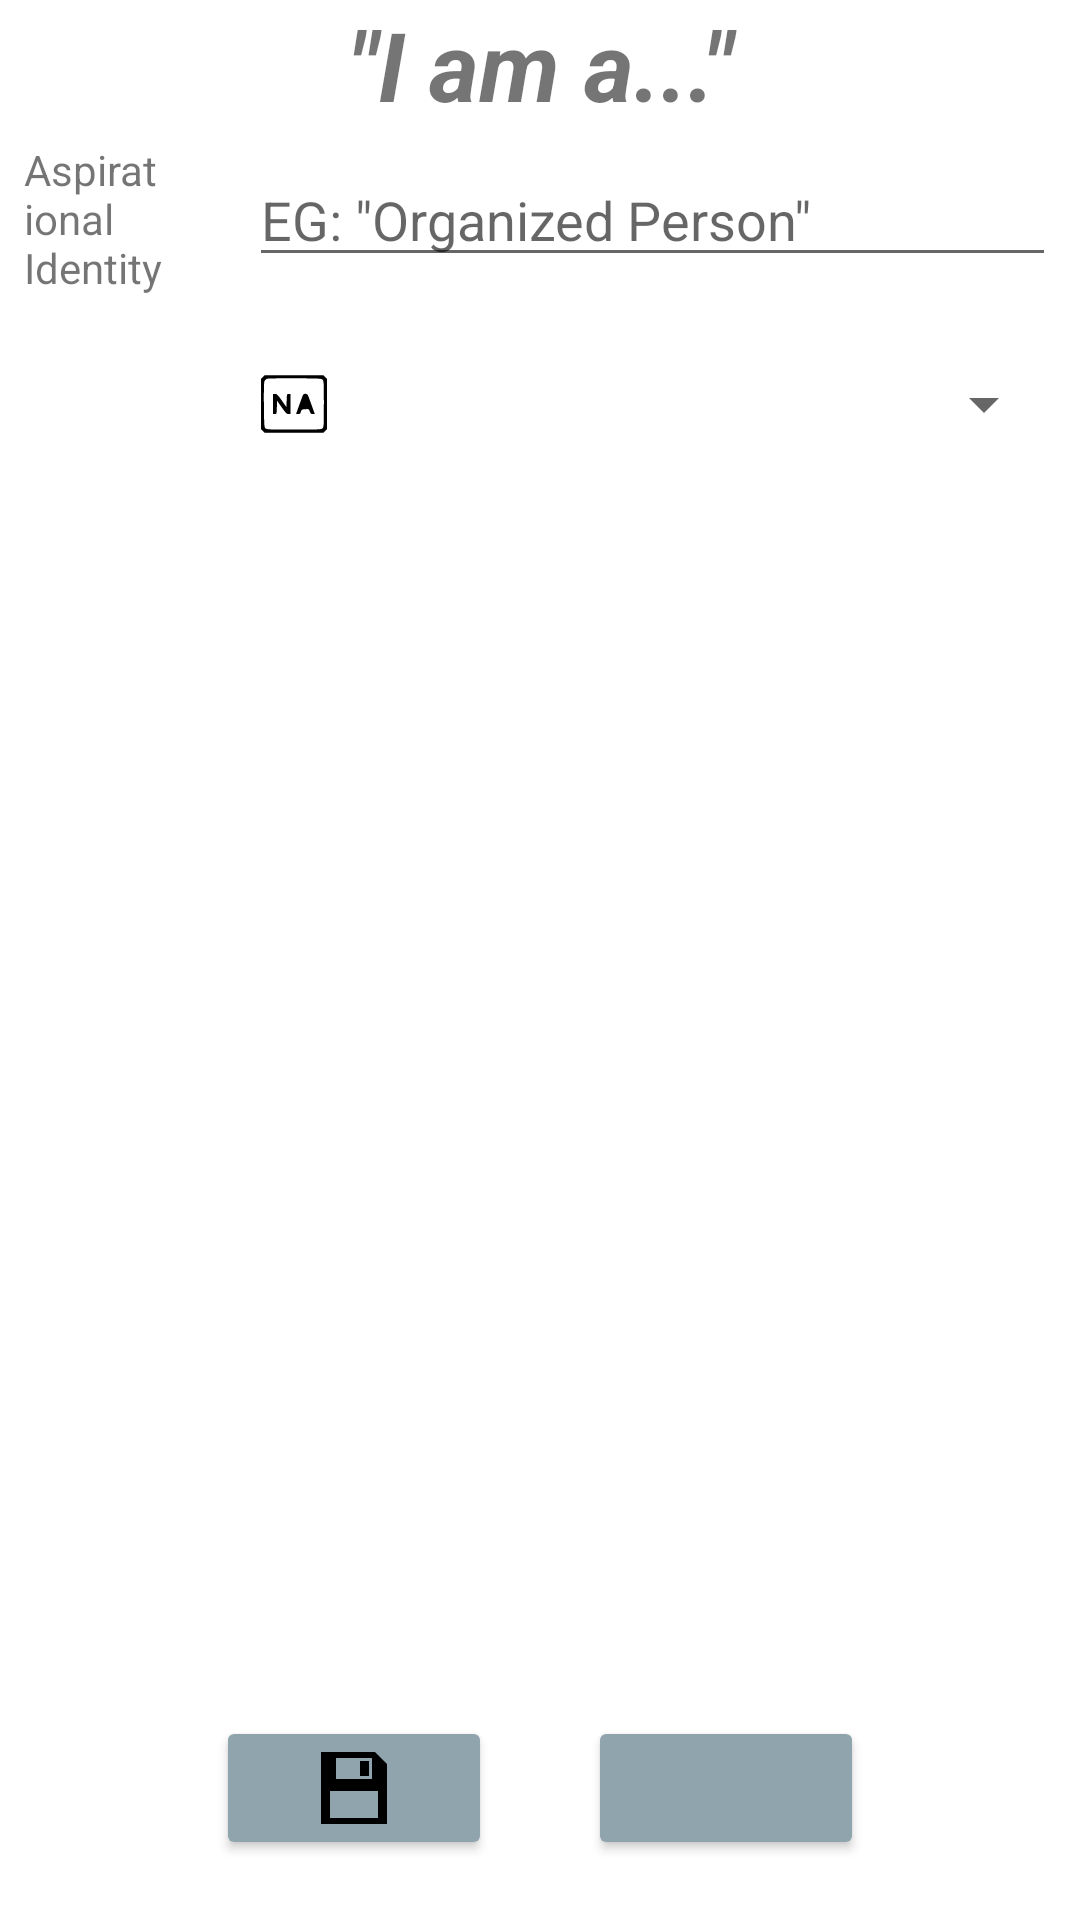

Icons on this 1080×1920 Android screen, each with the point to tap as [x,y]:
Save Button: [353,1791]
